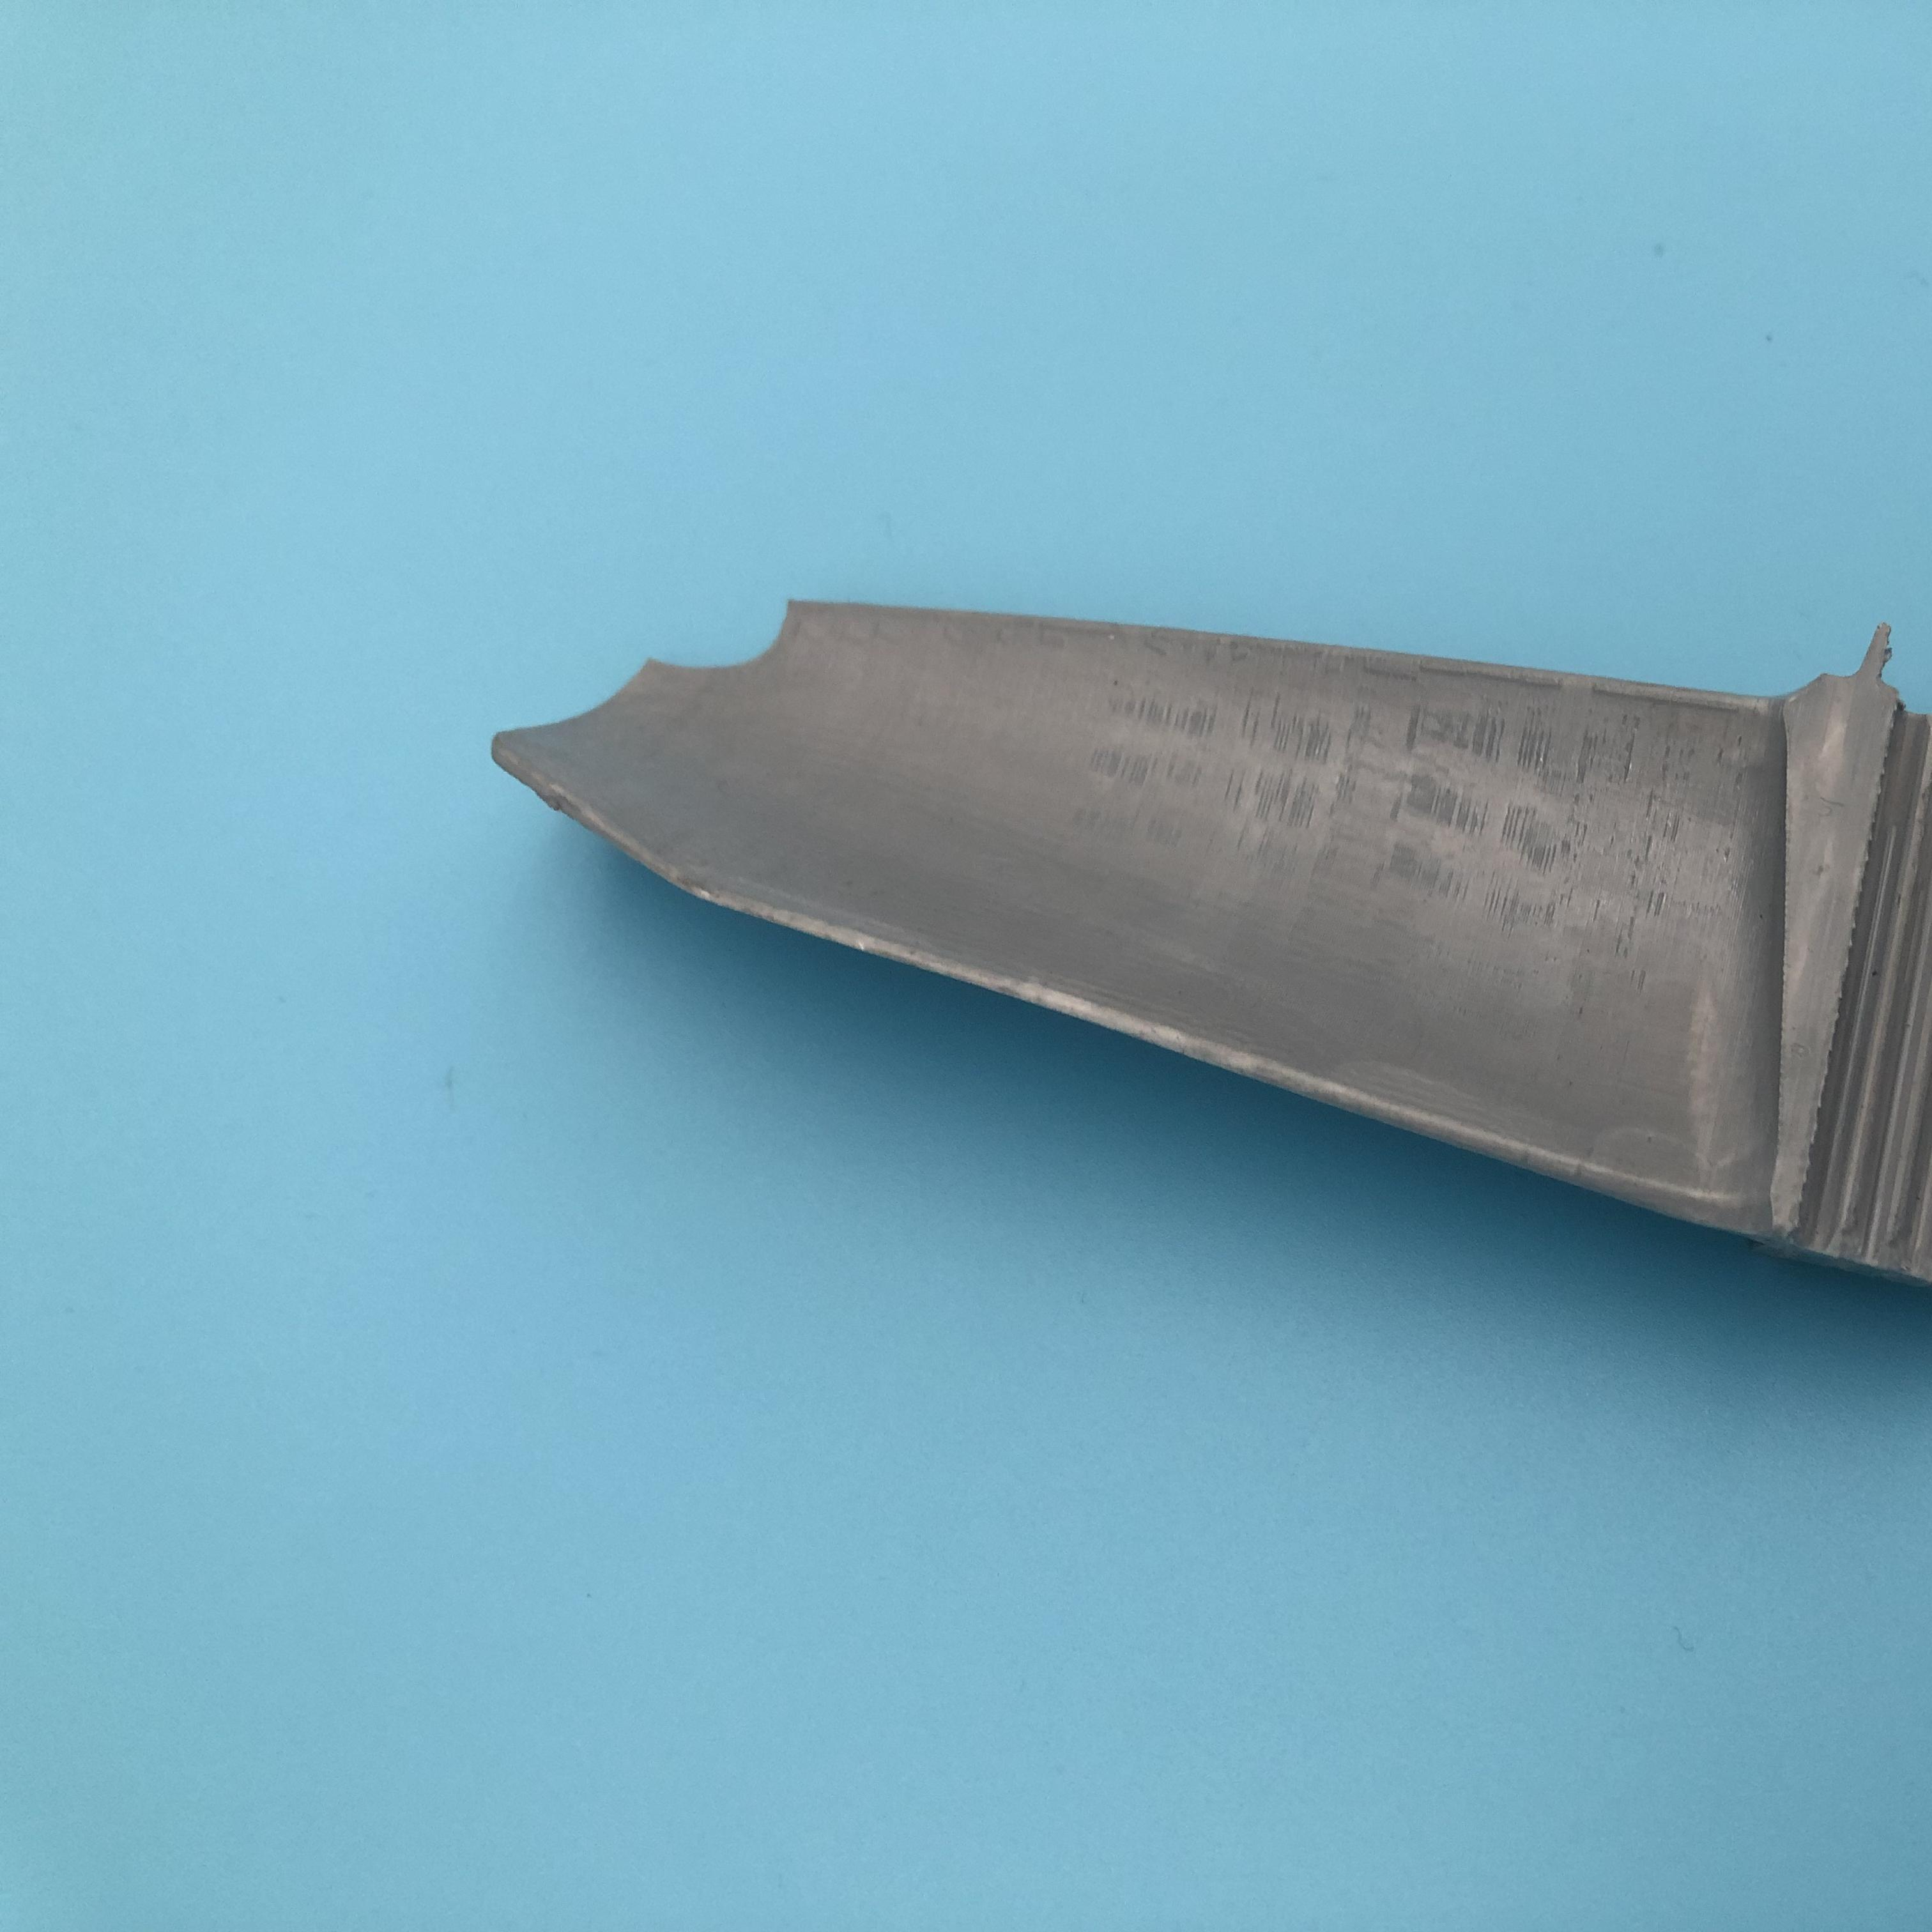fracture: (524, 587, 816, 745)
